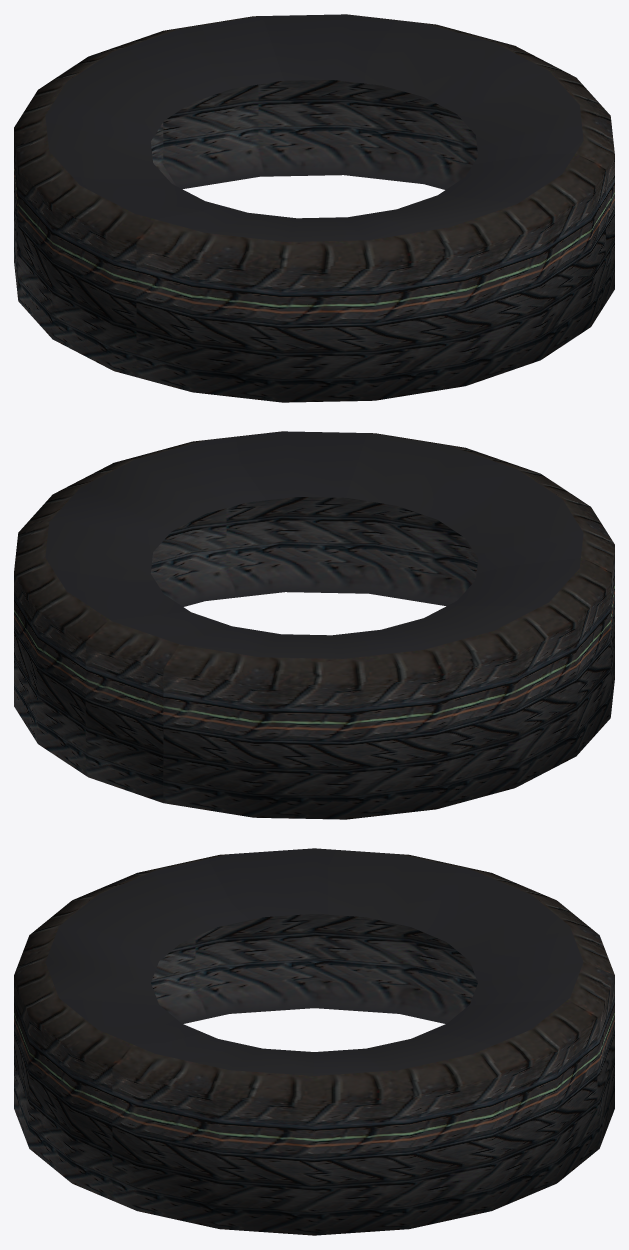
Rendered from tire.obj.
3 renders of one model, top to bottom at view 1: azimuth 30°, elevation 25°; view 2: azimuth 150°, elevation 25°; view 3: azimuth 270°, elevation 25°, orthographic.
Parts seen in each view (by area): view 1: Object02; view 2: Object02; view 3: Object02.
Part boxes in pixels (x1,y1,x2,y2): Object02: [14, 14, 614, 402]; Object02: [14, 431, 614, 819]; Object02: [14, 848, 614, 1235].
Size of the model in its own units: 0.823 by 0.2413 by 0.823.
Materials: 2 (2 with a texture image).
